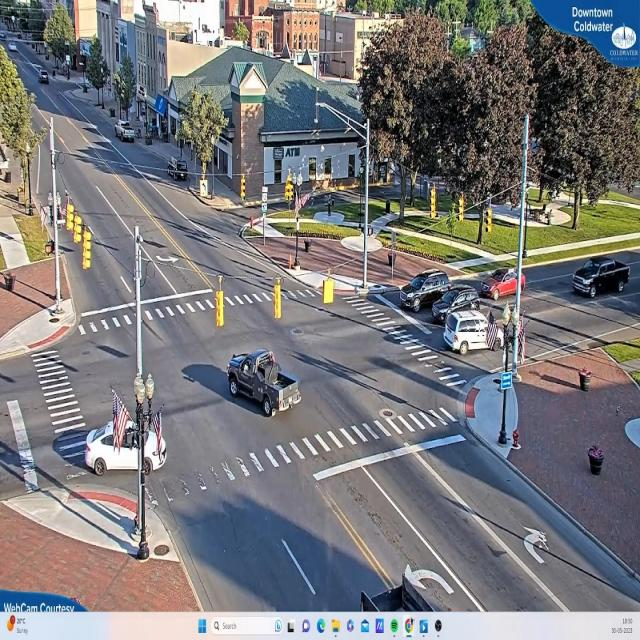car: (228, 347, 304, 417), (574, 258, 632, 300), (445, 310, 496, 356), (400, 272, 454, 314), (432, 290, 482, 326), (478, 269, 527, 301), (117, 123, 137, 143)
